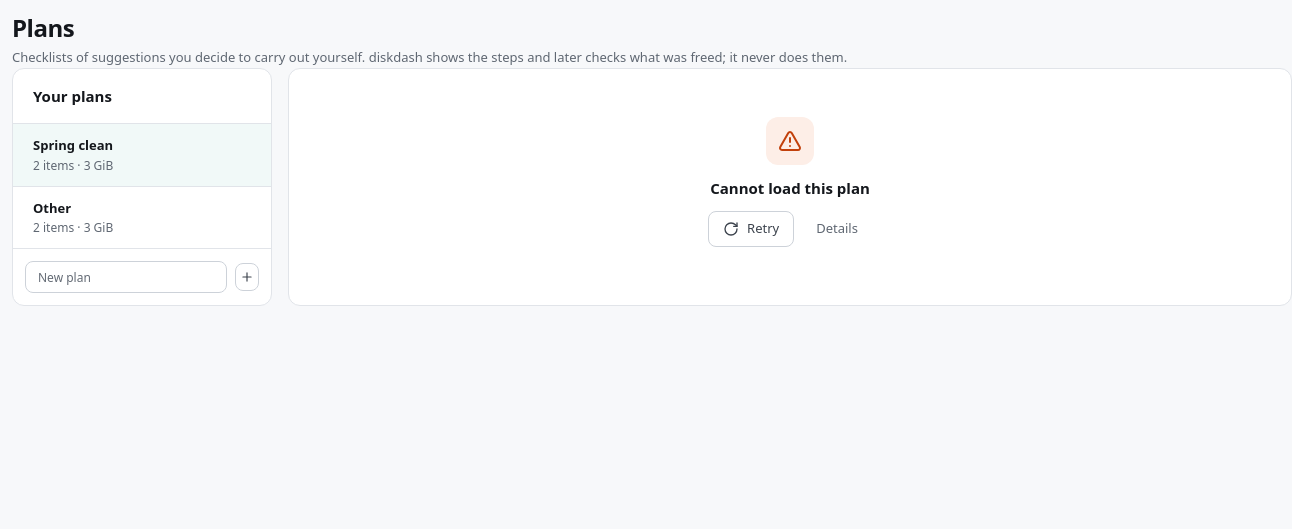
Test: PlansPage › shows an error for one plan while the others stay selectable
The width and height of the screenshot is (1292, 529).
Expected: the heading "Cannot load this plan" is shown, 710,176 -> 870,199
Click the button "Other 2 items · 3 GiB" at coordinates (142, 217), box 13,186 -> 271,248
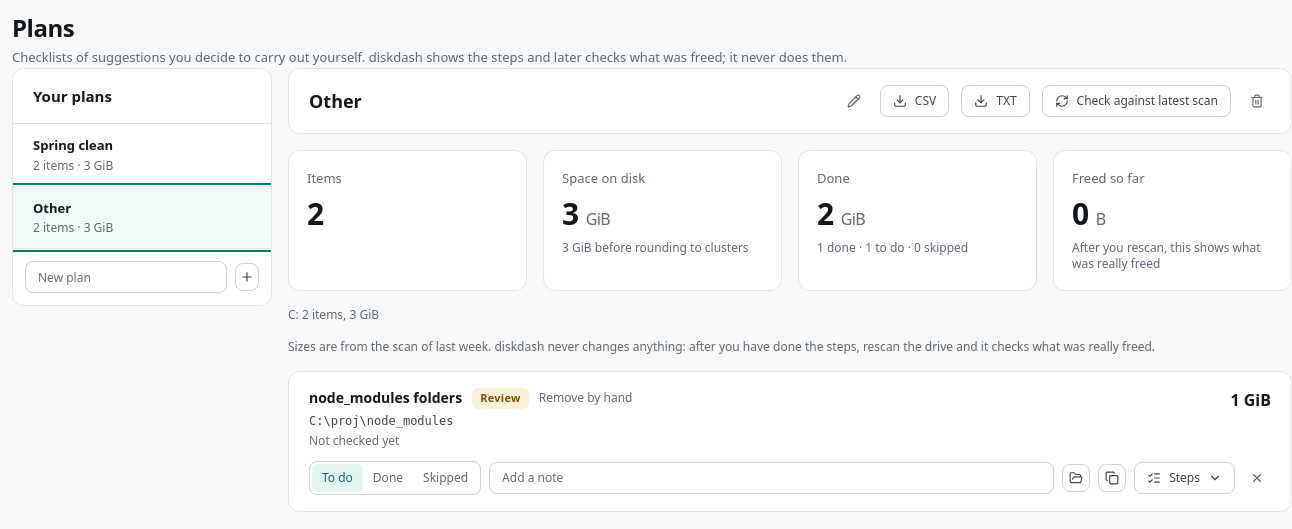
Now the heading "Other" is shown, box 309,88 -> 362,112
